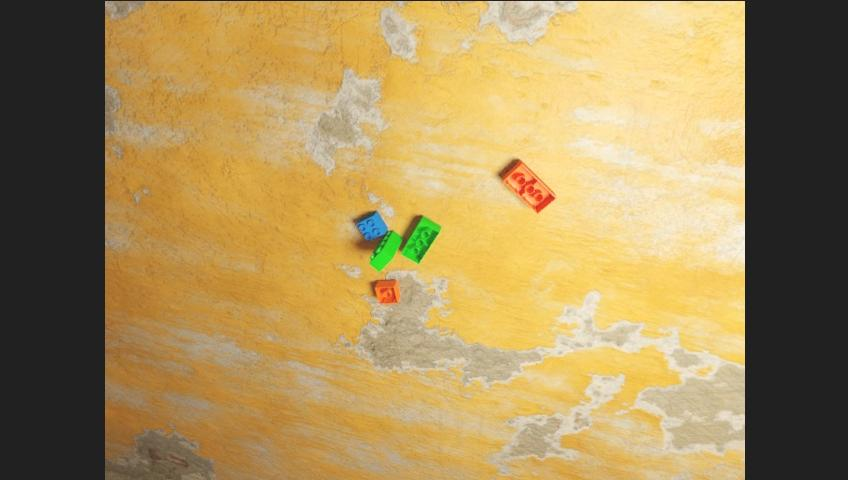2x2_blue: (357, 211, 388, 241)
2x2_orange: (375, 281, 400, 303)
4x2_green: (398, 216, 441, 264), (369, 230, 402, 272)
4x2_orange: (503, 160, 556, 214)
